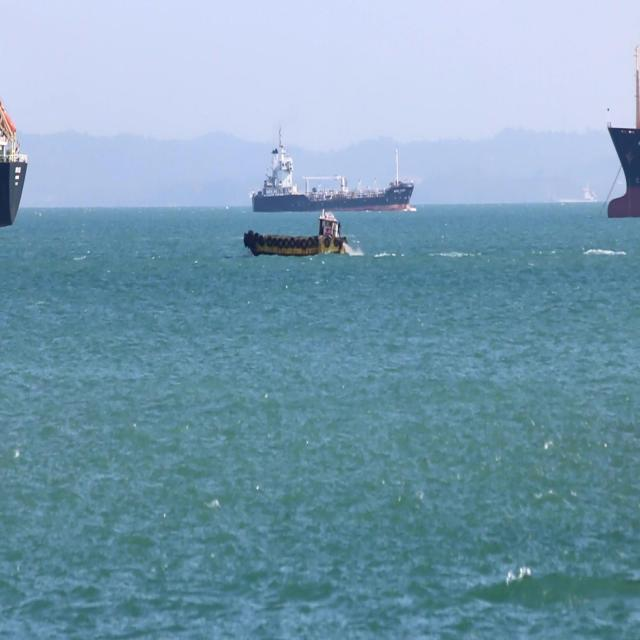CIV_Ship: (251, 121, 414, 211), (606, 44, 640, 218), (242, 208, 350, 260), (0, 100, 27, 227)
